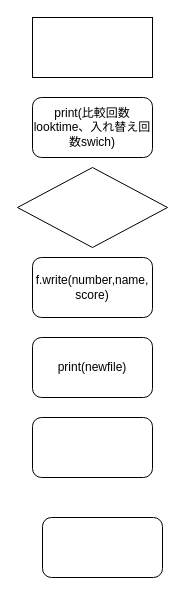
Image size: 185x595. Some labels were removed from this diagram. The centre of each missing label's shape, as x and y in pixels:
for item in alist: point (92, 207)
quicksort(a,left,right)関数 開始: point (92, 47)
